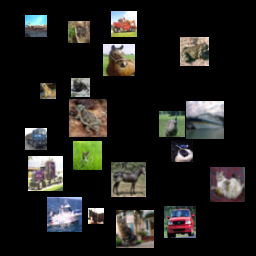airplane: (105, 39, 134, 68)
automobile: (200, 10, 235, 45), (63, 127, 89, 153), (177, 185, 199, 207)
bird: (35, 18, 61, 44), (18, 109, 40, 131), (85, 52, 101, 68)
cat: (10, 177, 36, 203), (148, 191, 170, 213), (10, 210, 26, 226)
deer: (120, 182, 146, 208)
dog: (50, 211, 88, 249), (73, 91, 105, 123), (117, 136, 146, 165), (42, 47, 71, 76)
frog: (158, 45, 184, 71)
ship: (201, 50, 230, 79), (126, 8, 145, 27)
